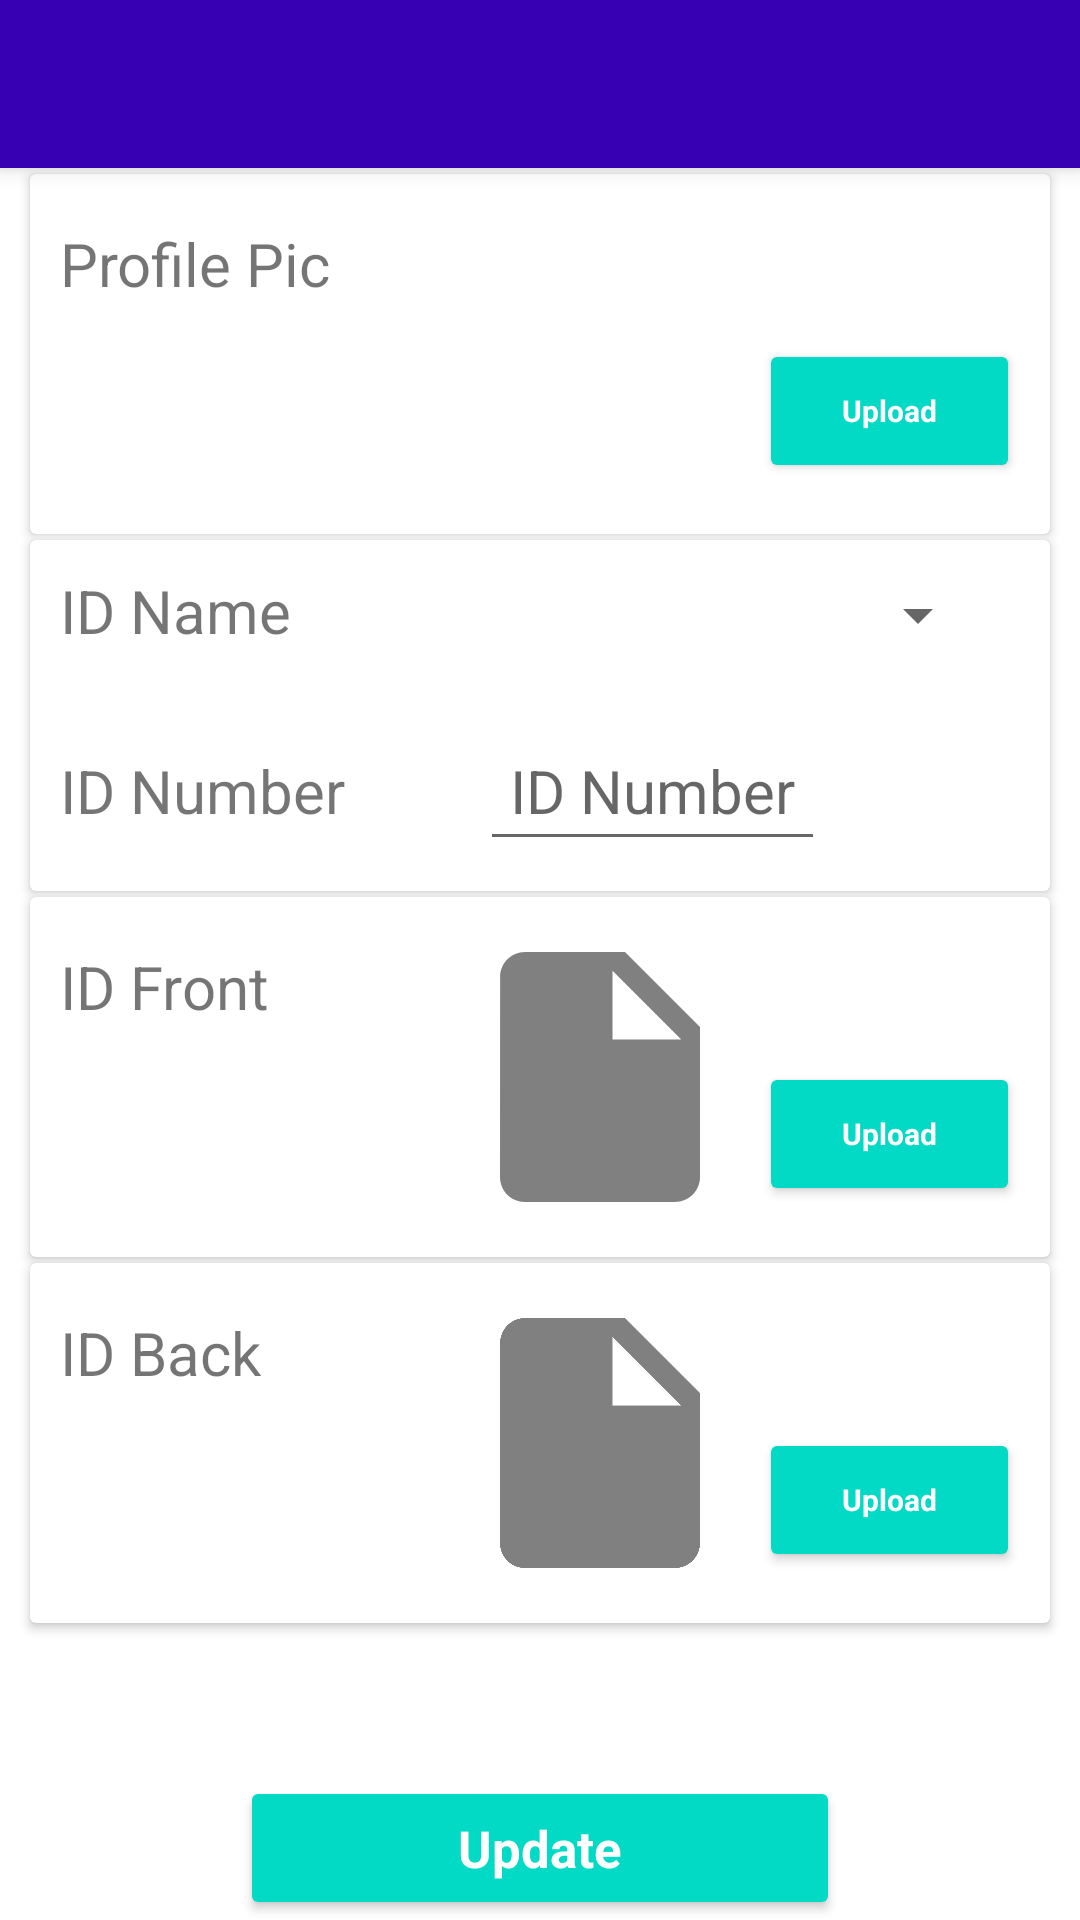

Icon click points for this 1080w x 1920h phone screenshot, format (x,y):
insert drive file: (600,1077), (600,1443)
